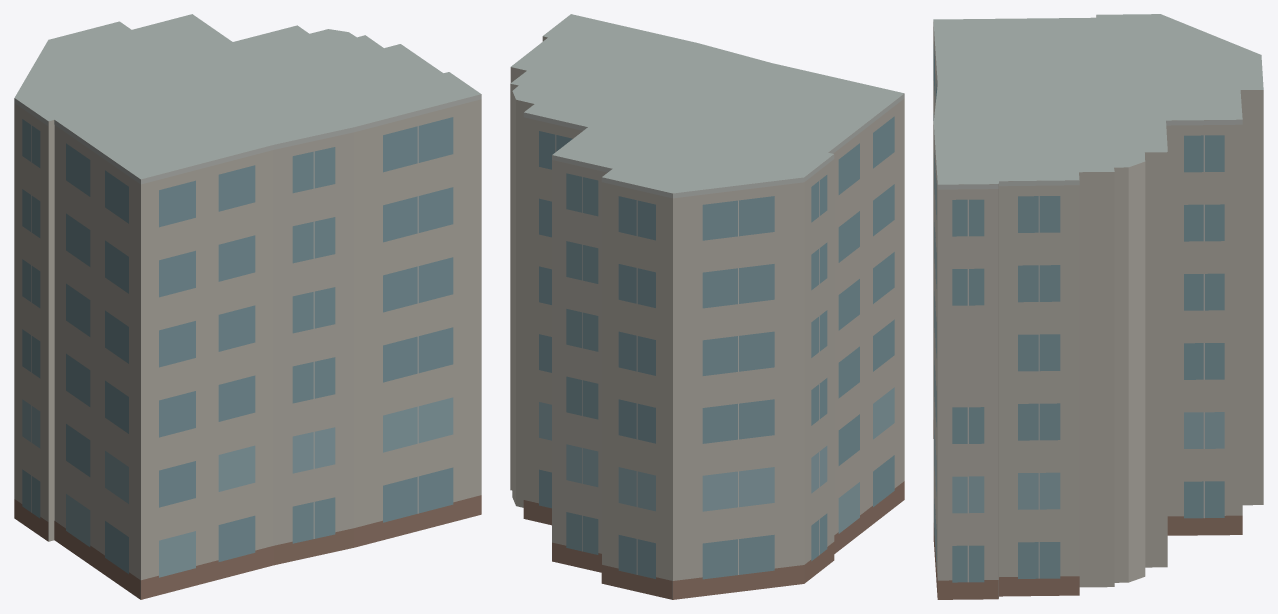
The model's file is survey-upis-32604950.glb.
3 renders of one model, left to right at view 1: azimuth 30°, elevation 25°; view 2: azimuth 150°, elevation 25°; view 3: azimuth 270°, elevation 25°, orthographic. The views are drawn at different scales.
Parts seen in each view (by area): view 1: survey-upis-32604950.tmp; view 2: survey-upis-32604950.tmp; view 3: survey-upis-32604950.tmp.
Part boxes in pixels (x1=…): survey-upis-32604950.tmp: x1=14, y1=14, x2=481, y2=599; survey-upis-32604950.tmp: x1=510, y1=14, x2=904, y2=599; survey-upis-32604950.tmp: x1=933, y1=14, x2=1263, y2=599.
Bounding box in the file's own units: 17.82 × 20.2 × 14.58.
